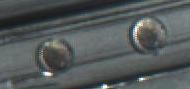joints: (127, 15, 169, 57), (35, 36, 73, 76)
